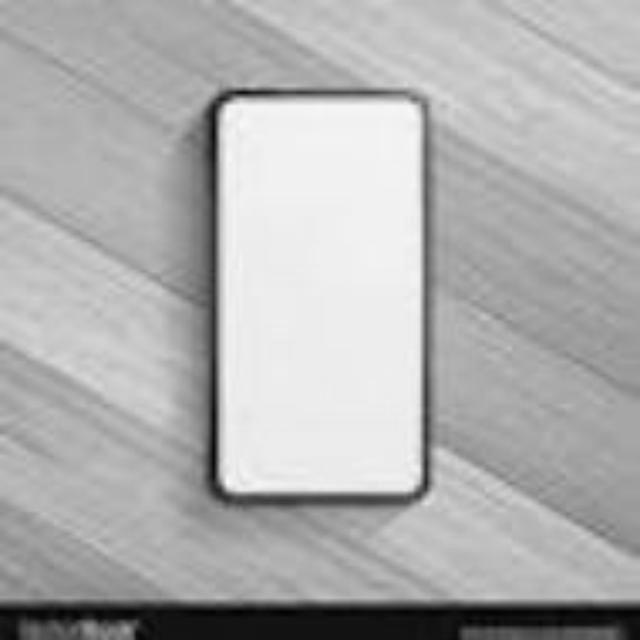fake: (212, 88, 432, 503)
